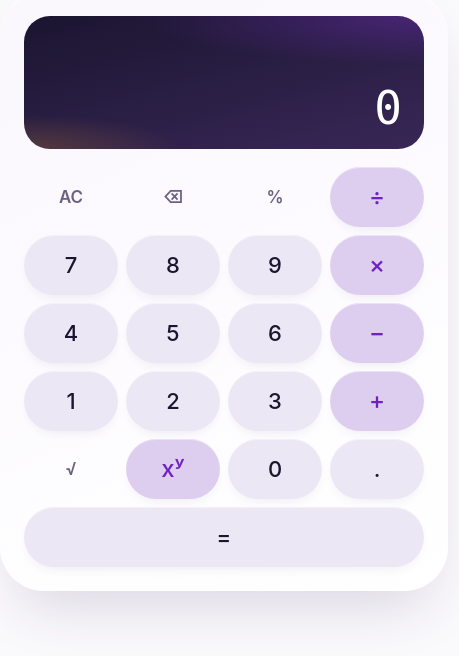
Test: Calculator › shows a generic message when the failure isn't a CalculatorApiError
The image size is (459, 656).
Click the button "1" at {"x": 71, "y": 401}, box [24,371,118,431]
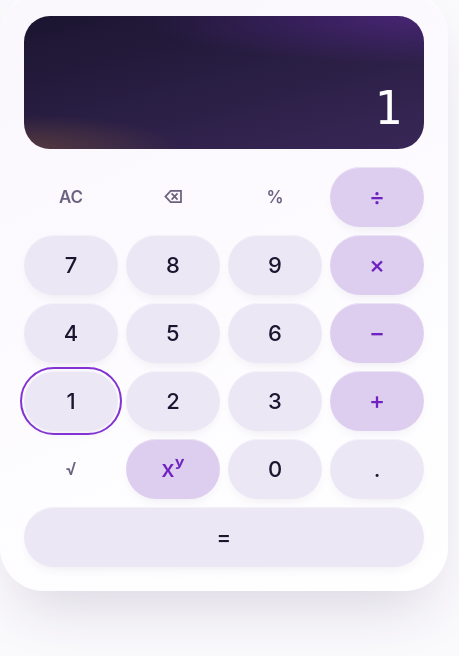
Click the button named "Add" at {"x": 377, "y": 401}, box [330,371,424,431]
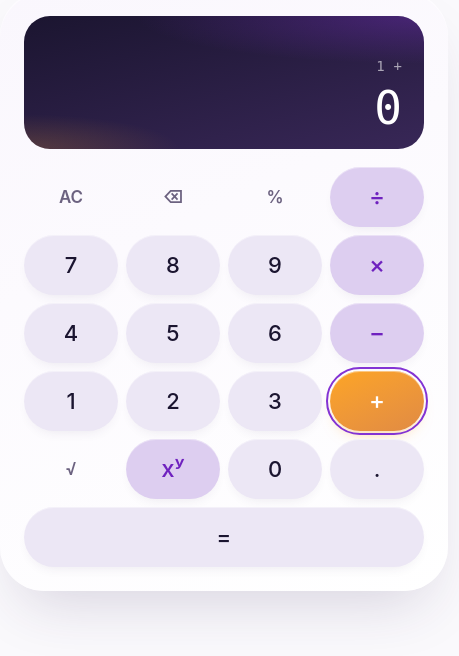
Click the button "2" at {"x": 173, "y": 401}, box [126,371,220,431]
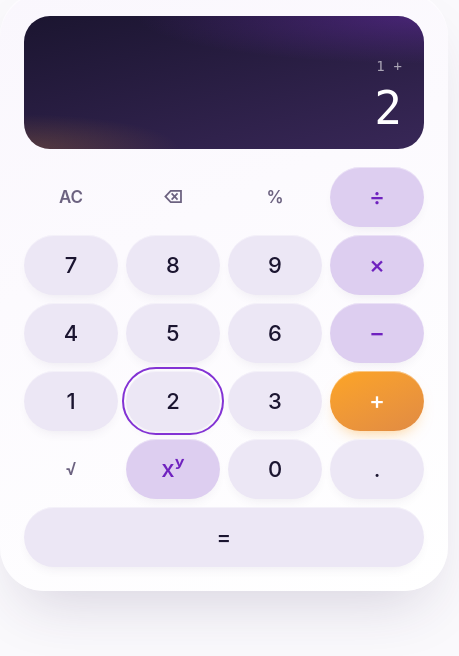
Click the button "=" at {"x": 224, "y": 537}, box [24,507,424,567]
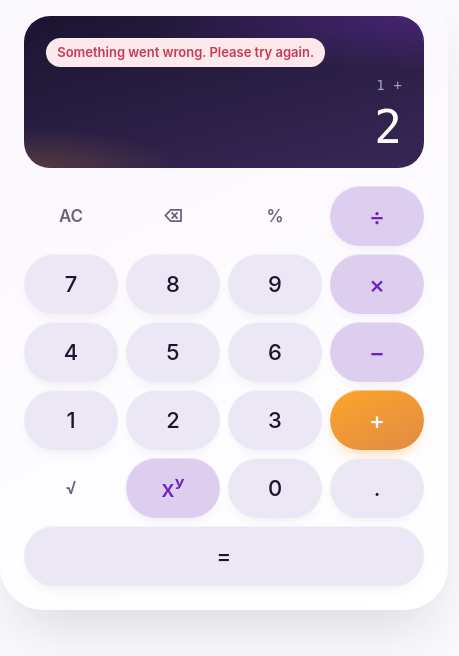
Expected: the message reads "Something went wrong. Please try again.", [57,44,314,60]
